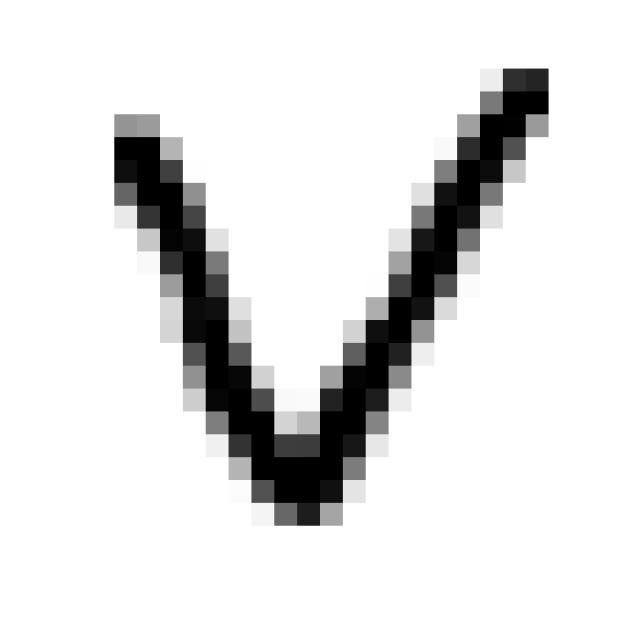7 -seven-: (92, 50, 569, 526)
